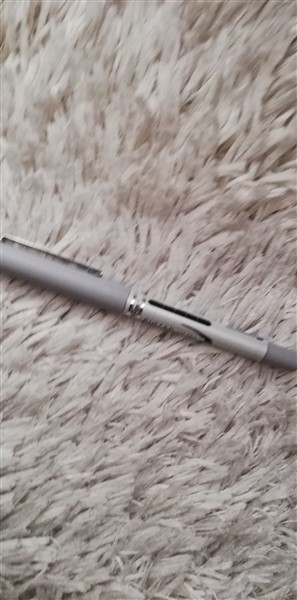pilot kalem: (1, 222, 297, 382)
